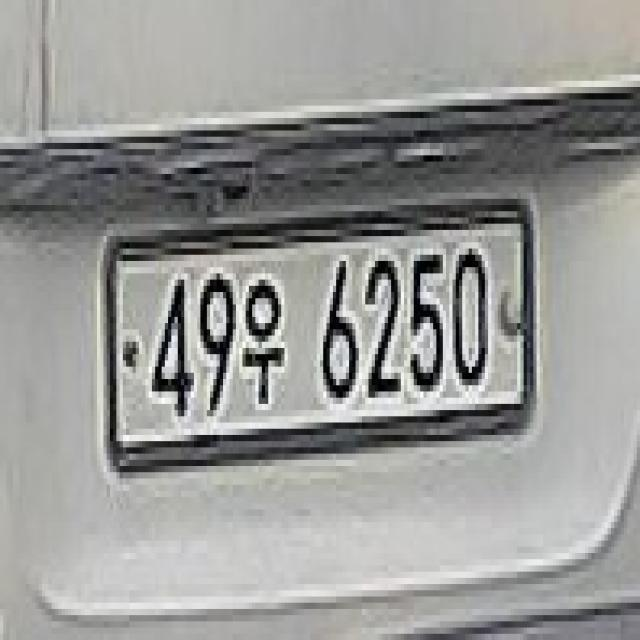0: (453, 242, 496, 395)
2: (364, 252, 402, 409)
4: (150, 274, 196, 424)
5: (410, 243, 447, 416)
6: (318, 256, 359, 413)
9: (200, 268, 237, 418)
license_plate: (90, 218, 542, 454)
u: (242, 270, 286, 418)
